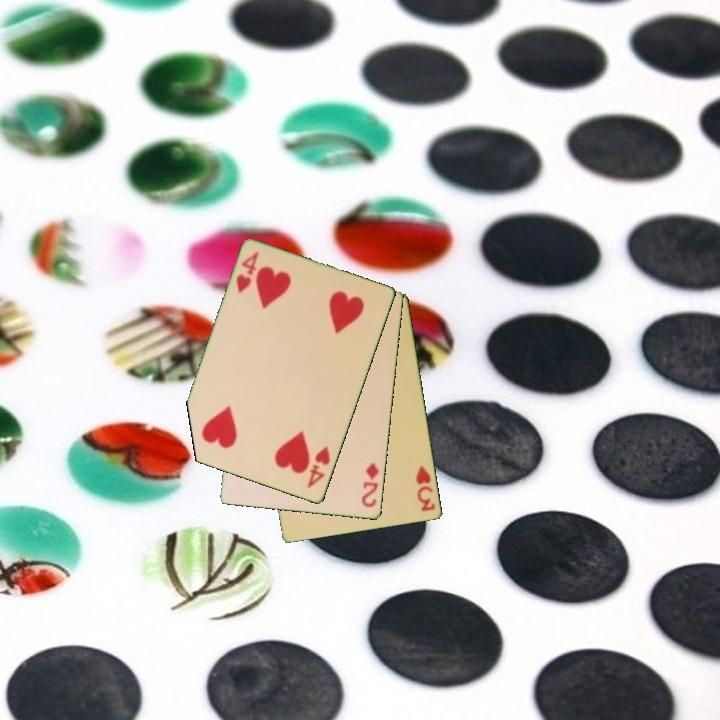2d: (358, 459, 382, 510)
3h: (413, 462, 438, 514)
4h: (304, 443, 333, 491), (233, 248, 262, 296)
